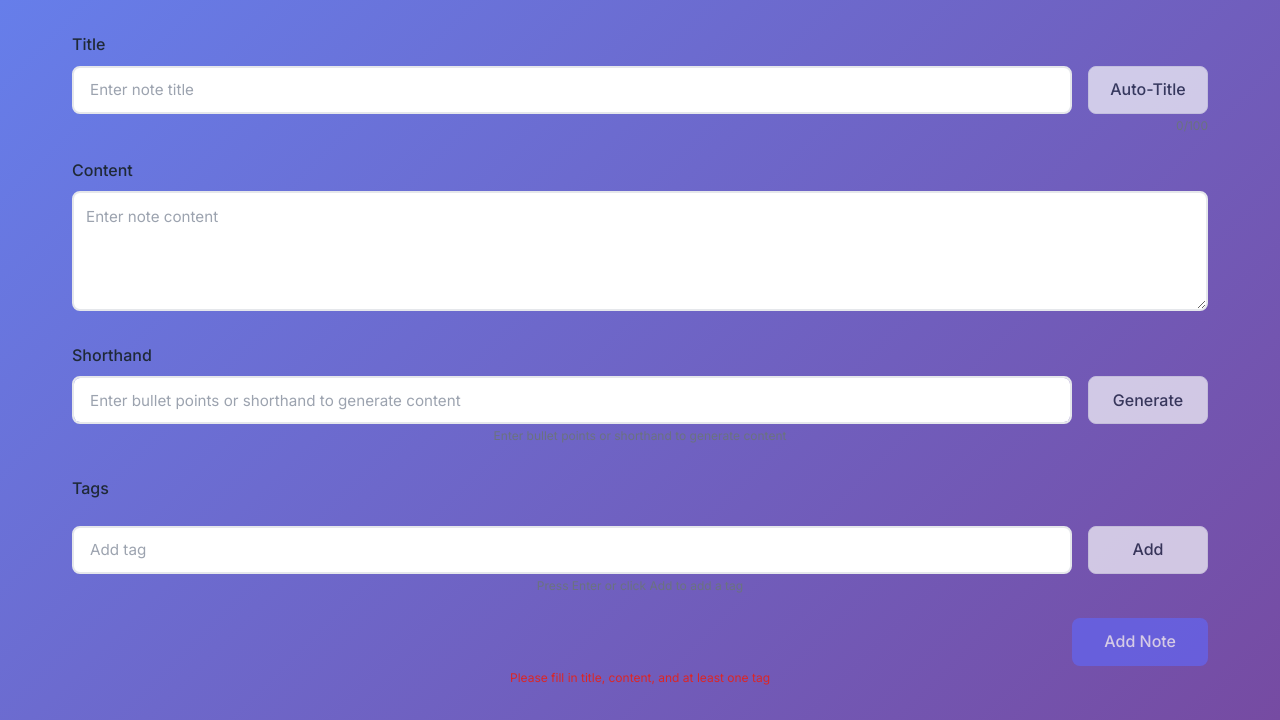
Test case: AI Error Handling › allows retry after AI error
The image size is (1280, 720).
// Fill in content
Type "Test content" into the text box with placeholder "Enter note content" at x=640, y=251, box [72, 191, 1208, 311]
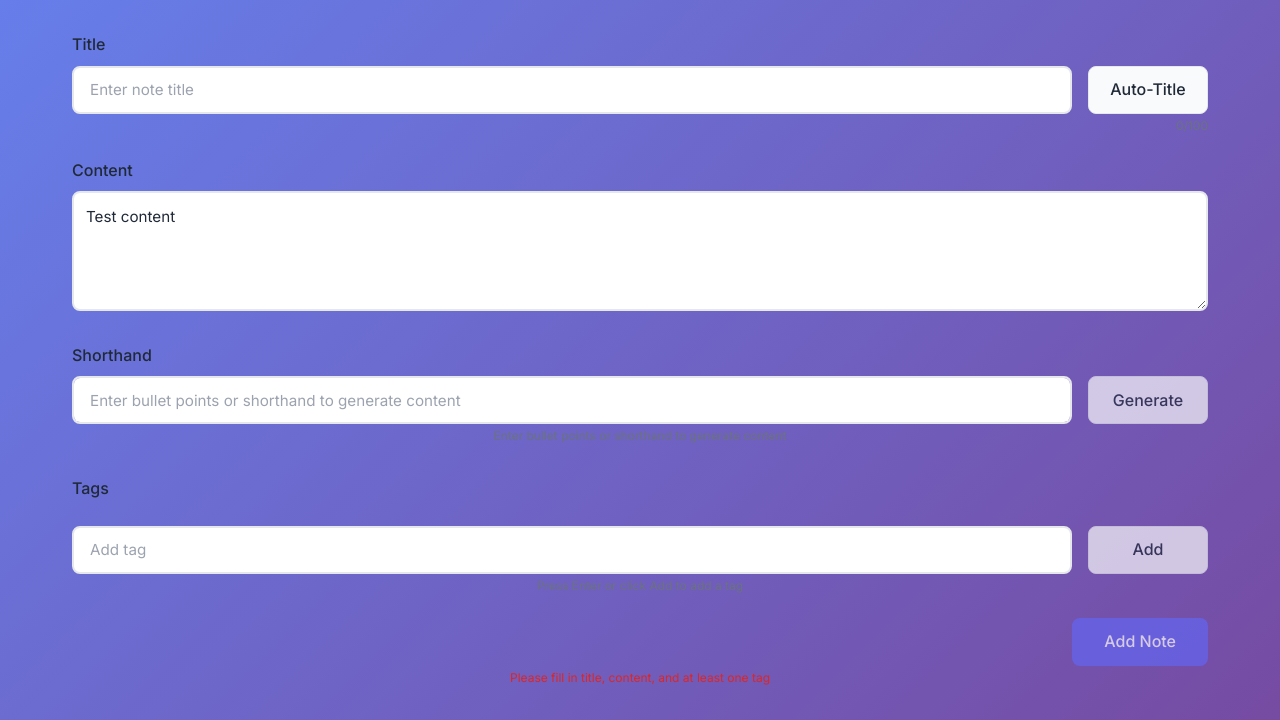
// Click auto-title button (fails)
Click the button "Auto-Title" at x=1148, y=90, box [1088, 66, 1208, 114]
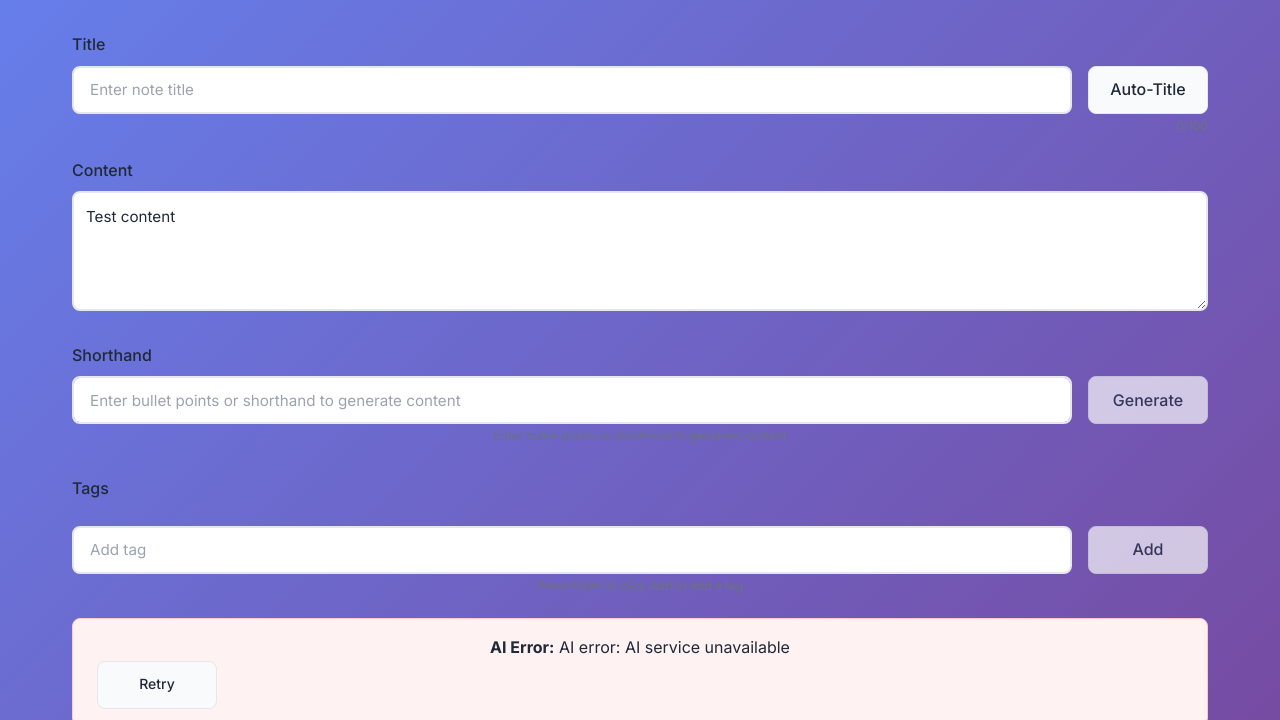
// Click auto-title button again (succeeds)
Click the button "Auto-Title" at x=1148, y=90, box [1088, 66, 1208, 114]
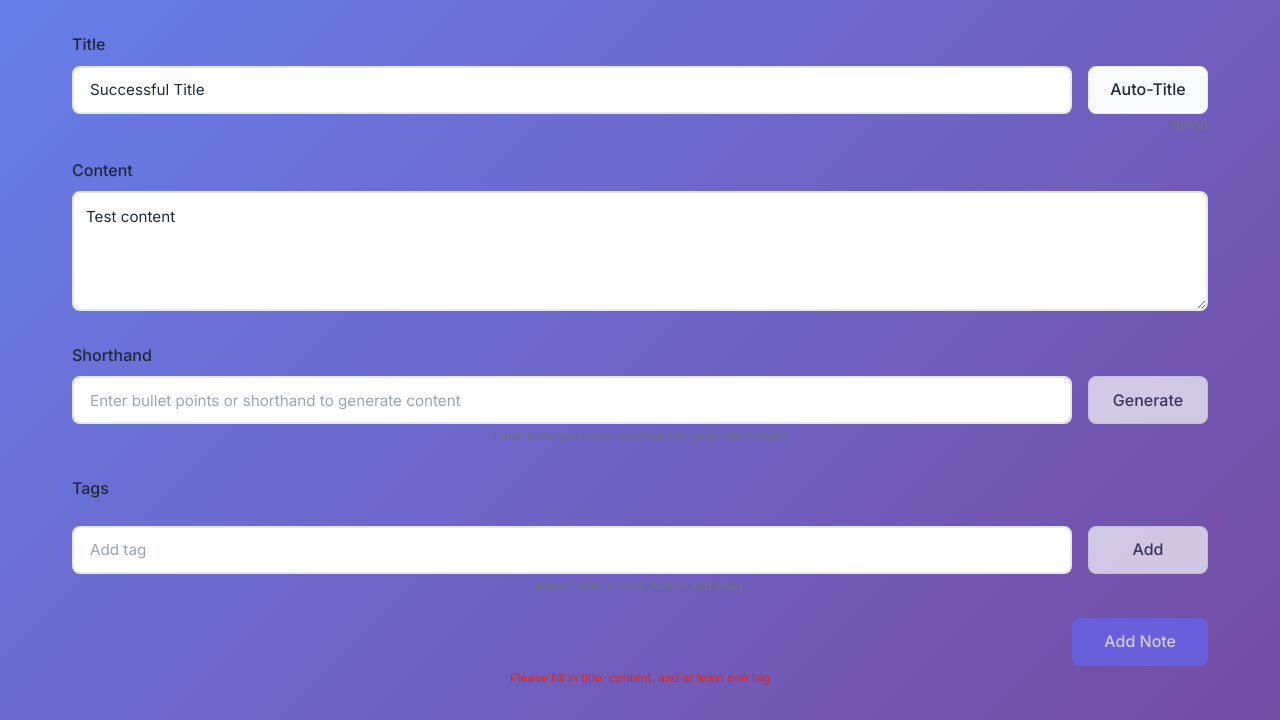
Result: the field showing "Successful Title" is shown at [72, 66, 1072, 114]
